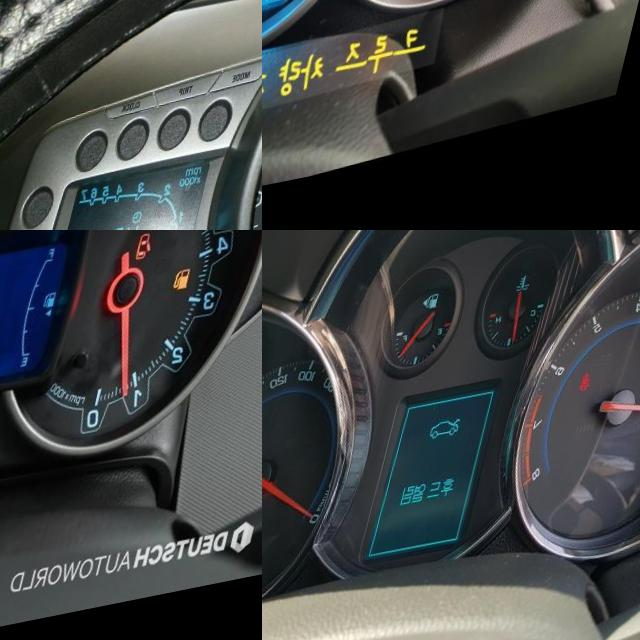Doors: (149, 248, 170, 279)
Low fuel level: (189, 286, 208, 311)
